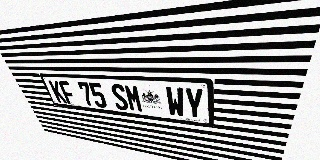5: (88, 82, 108, 108)
7: (76, 82, 96, 107)
F: (58, 81, 77, 105)
K: (48, 80, 67, 103)
M: (123, 84, 144, 113)
S: (109, 83, 130, 111)
W: (165, 86, 185, 118)
Y: (184, 87, 204, 120)
